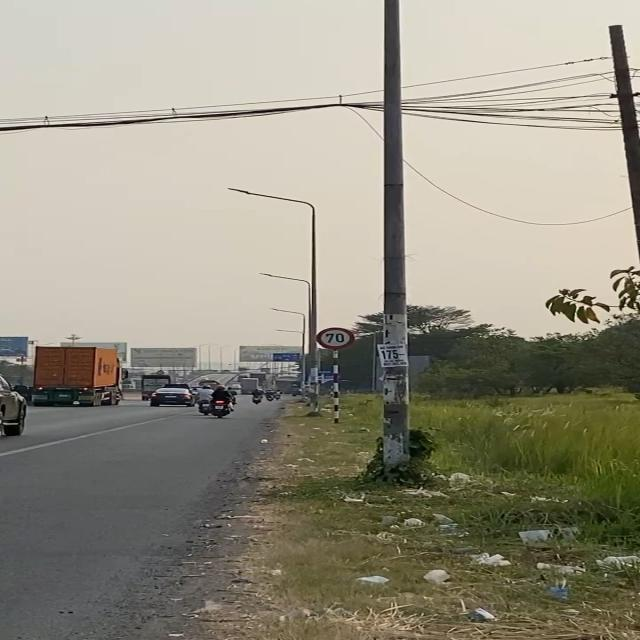127-toc-do-toi-da-70: (318, 326, 354, 350)
